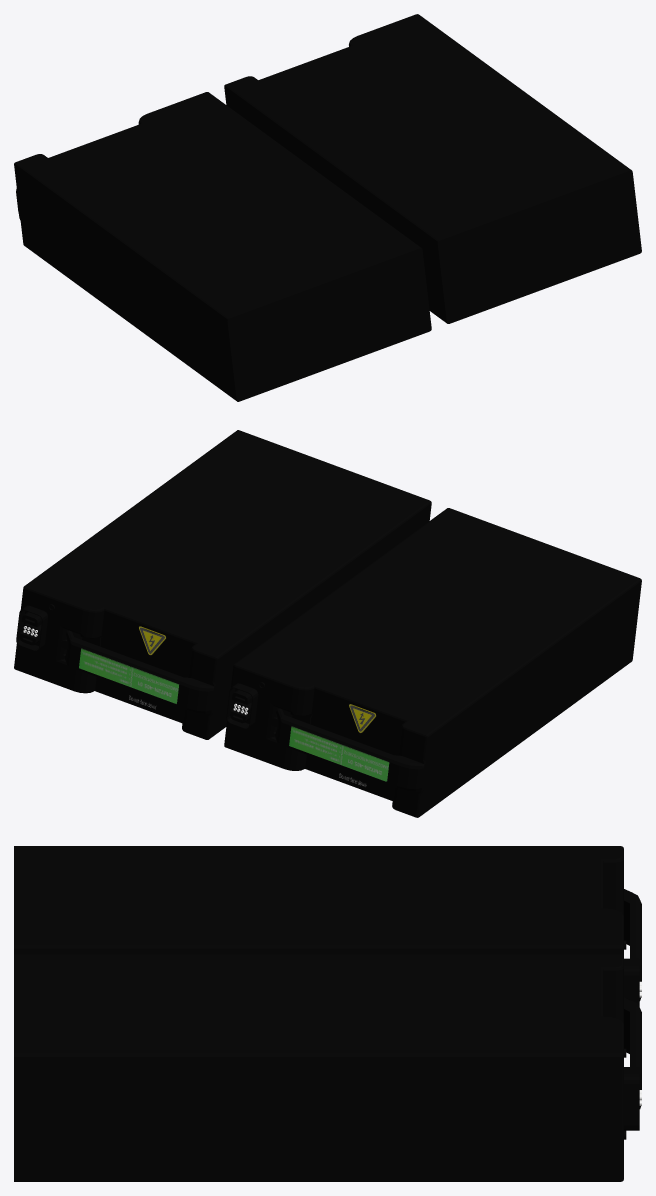
File: battery.glb
The picture shows the model from 3 angles, top to bottom: view 1: azimuth 30°, elevation 25°; view 2: azimuth 150°, elevation 25°; view 3: azimuth 270°, elevation 25°; orthographic projection. The views are drawn at different scales.
Visible parts, largest first — view 1: battery, battery.001; view 2: battery, battery.001; view 3: battery.001, battery.
Boxes of the visible parts, bbox=[...] form: battery: bbox=[14, 92, 431, 401]; battery.001: bbox=[224, 14, 641, 323]; battery: bbox=[224, 508, 641, 817]; battery.001: bbox=[14, 430, 431, 739]; battery.001: bbox=[14, 954, 641, 1181]; battery: bbox=[14, 846, 641, 1006].
Size of the model in its own units: 0.6444 by 0.202 by 0.594.
7 materials, 3 textured.
